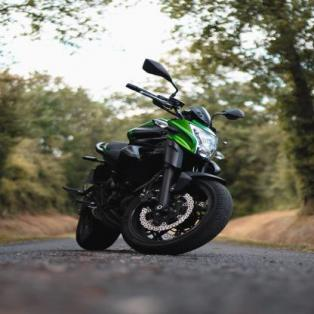Motocicleta: (51, 58, 258, 260)
